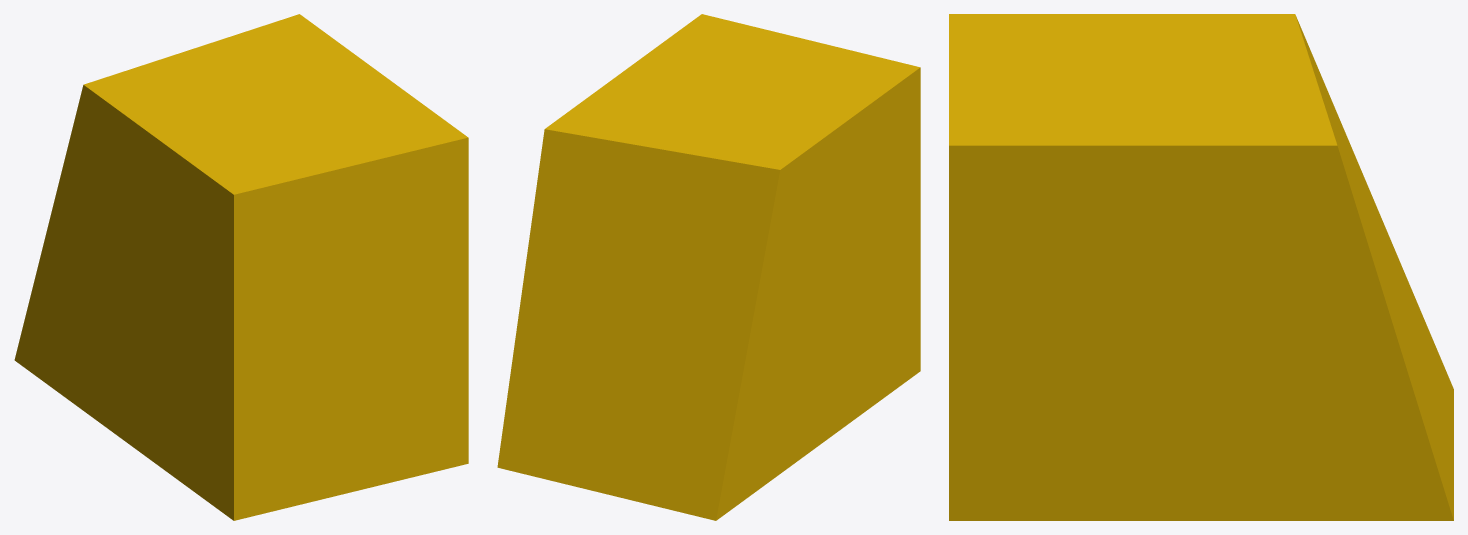
Rendered from Cinderblock_02_Lod1.fbx.
3 renders of one model, left to right at view 1: azimuth 30°, elevation 25°; view 2: azimuth 150°, elevation 25°; view 3: azimuth 270°, elevation 25°, orthographic. The views are drawn at different scales.
Parts seen in each view (by area): view 1: Cinderblock_02_Lod1; view 2: Cinderblock_02_Lod1; view 3: Cinderblock_02_Lod1.
Part boxes in pixels (x1,y1,x2,y2): Cinderblock_02_Lod1: (14, 14, 468, 520); Cinderblock_02_Lod1: (497, 14, 920, 520); Cinderblock_02_Lod1: (949, 14, 1453, 520).
Size of the model in its own units: 20.09 by 26.69 by 32.55.
